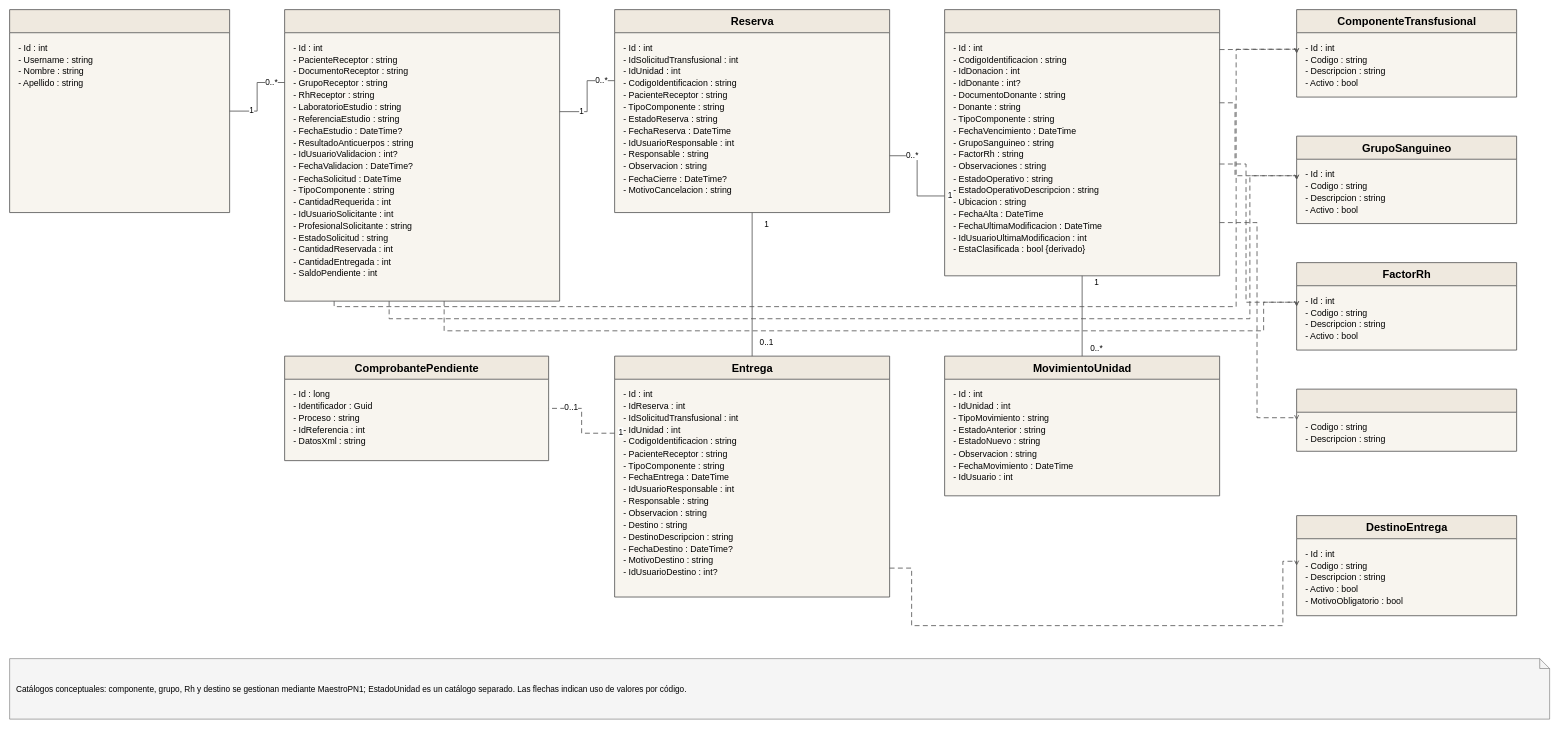
Some shapes in this 1560 by 729 pixel diagram are drawn without their labels. The box of each missing label's shape, as (x1, y1, x2, y2) in pixels:
EstadoUnidad: (1296, 388, 1517, 451)
SolicitudTransfusional: (284, 9, 560, 301)
Unidad: (944, 9, 1220, 276)
Usuario: (9, 9, 230, 213)
